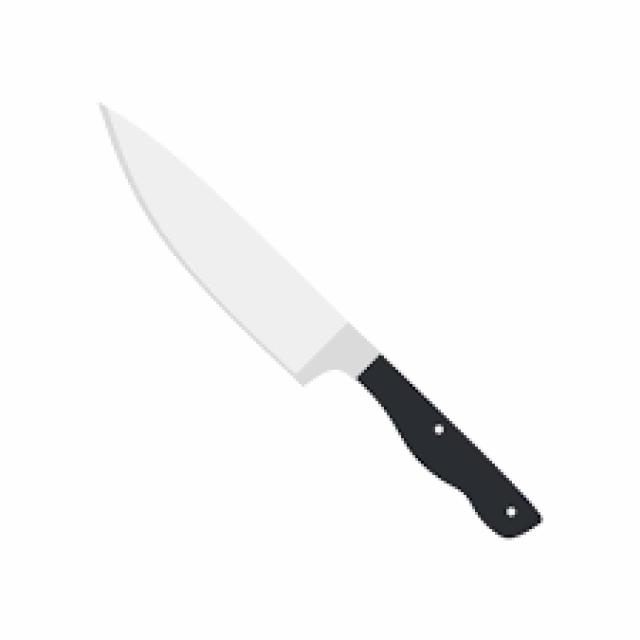Knife: (97, 100, 540, 538)
